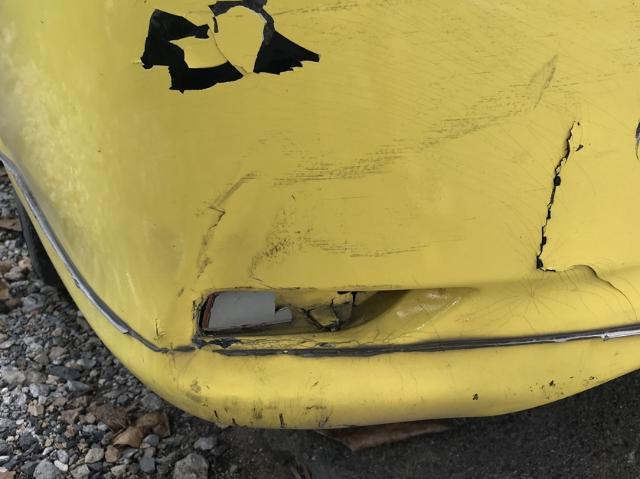Bumper: (99, 4, 626, 428)
